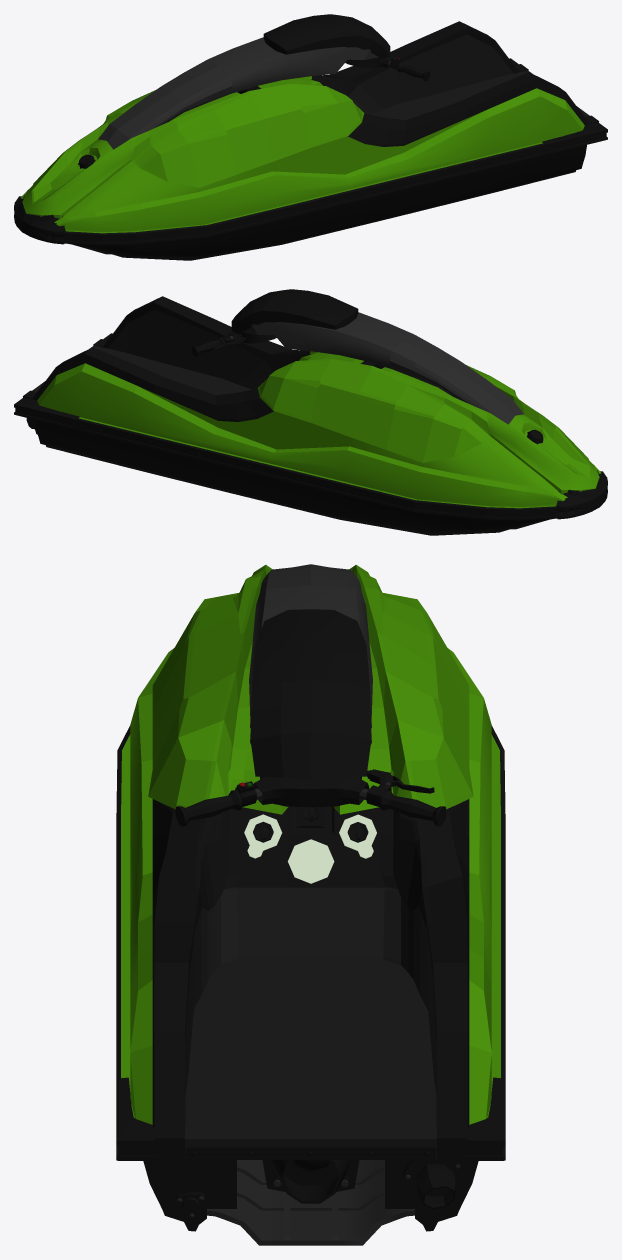
The model's file is Jet_Ski_Kawasaki_800.FBX.
3 renders of one model, top to bottom at view 1: azimuth 30°, elevation 25°; view 2: azimuth 150°, elevation 25°; view 3: azimuth 270°, elevation 25°, orthographic. The views are drawn at different scales.
Visible parts, largest first — view 1: Base1, leather; view 2: Base1, leather; view 3: Base1, leather.
Part boxes in pixels (bbox=[...]): Base1: bbox=[14, 21, 607, 260]; leather: bbox=[263, 14, 390, 58]; Base1: bbox=[14, 296, 607, 535]; leather: bbox=[231, 289, 358, 333]; Base1: bbox=[116, 564, 505, 1245]; leather: bbox=[250, 609, 371, 780].
Size of the model in its own units: 1765 by 602 by 551.
